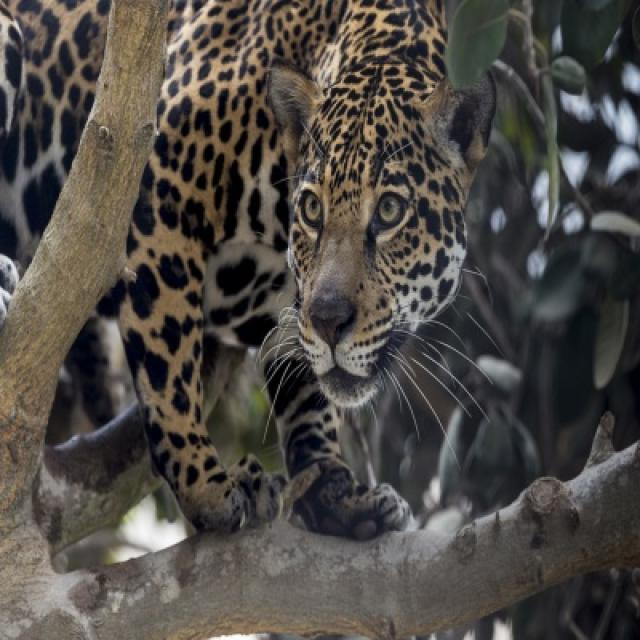not_pig: (0, 0, 499, 542)
